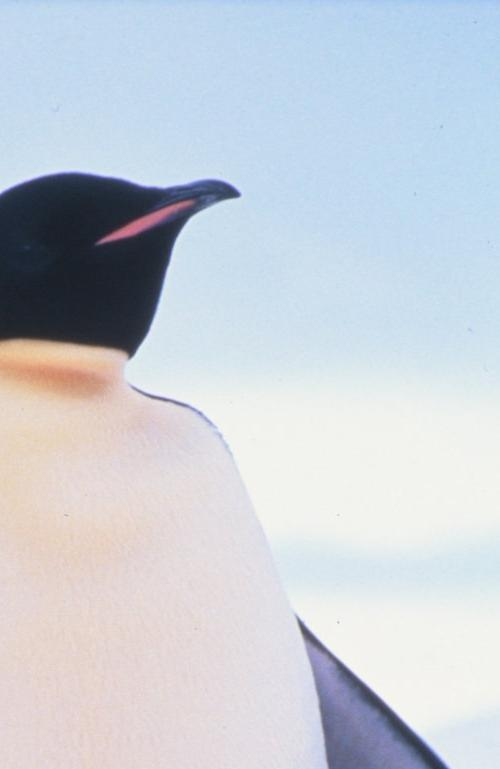Emperor Penguin: (0, 80, 473, 769)
